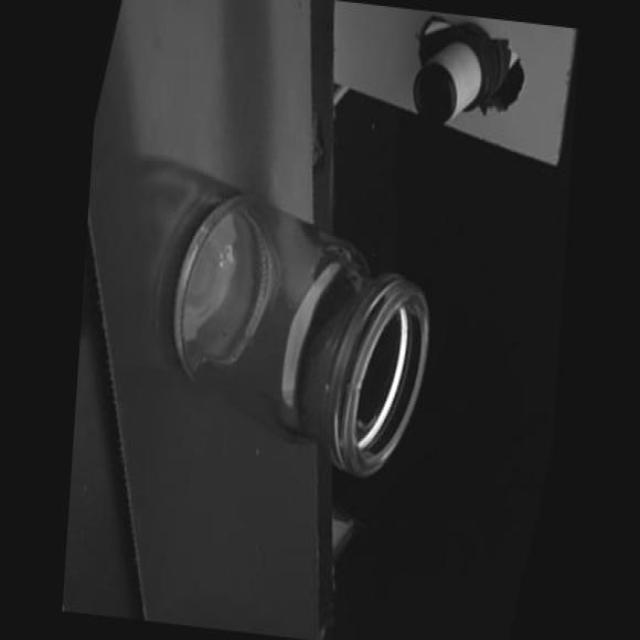defect: (343, 366, 369, 411), (318, 372, 335, 403)
glass: (143, 167, 454, 501)
